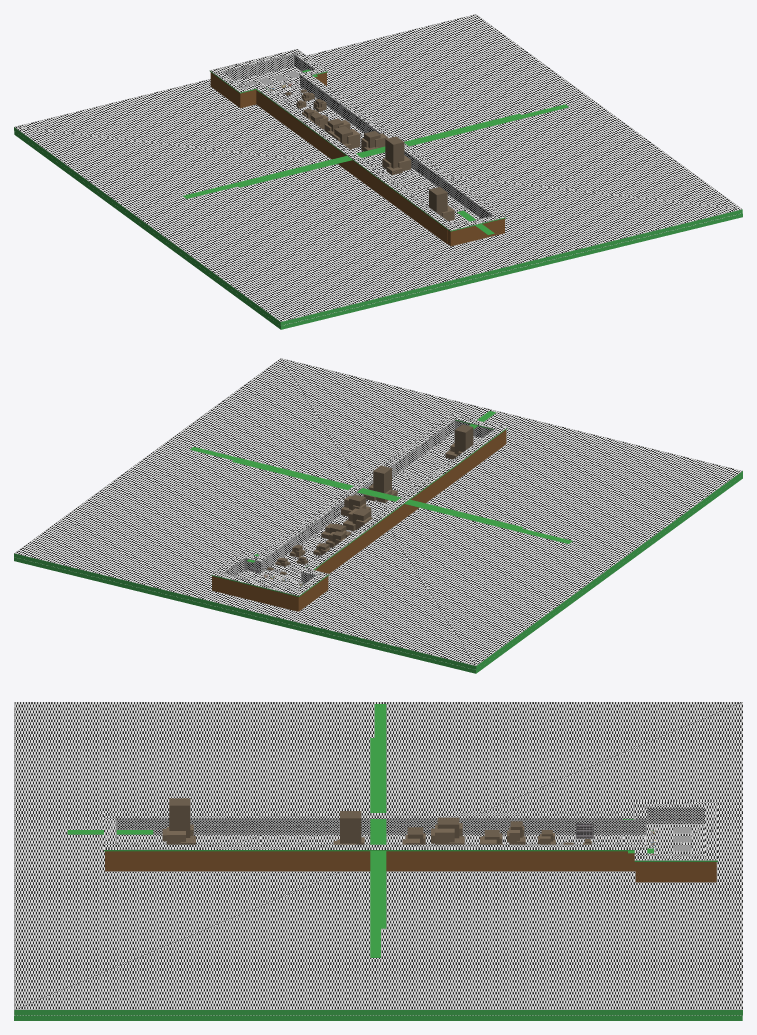
3 renders of one model, top to bottom at view 1: azimuth 30°, elevation 25°; view 2: azimuth 150°, elevation 25°; view 3: azimuth 270°, elevation 25°, orthographic. The views are drawn at different scales.
Parts seen in each view (by area): view 1: Texture (×7), Baseplate (×2), Part (×2), GrassCap (×2), Union (×2); view 2: Texture (×6), Baseplate (×2), Part (×3), GrassCap (×2), Union (×2); view 3: Texture (×12), Part (×3), Baseplate (×2), GrassCap (×2), Union (×3).
Part boxes in pixels (x1,y1,x2,y2): Texture (×7): (14, 14, 741, 321); Baseplate (×2): (14, 127, 742, 329); Part (×2): (256, 90, 504, 246); GrassCap (×2): (183, 104, 568, 198); Union (×2): (382, 136, 454, 221); Texture (×6): (14, 358, 742, 665); Baseplate (×2): (14, 471, 742, 673); Part (×3): (218, 432, 503, 611); GrassCap (×2): (190, 447, 572, 543); Union (×2): (363, 424, 473, 502); Texture (×12): (14, 702, 742, 1015); Part (×3): (104, 850, 716, 882); Baseplate (×2): (14, 1010, 742, 1020); GrassCap (×2): (370, 704, 386, 957); Union (×3): (162, 798, 464, 844).
Bounding box in the file's own units: 2049 × 175 × 2049.
52 materials, 3 textured.
